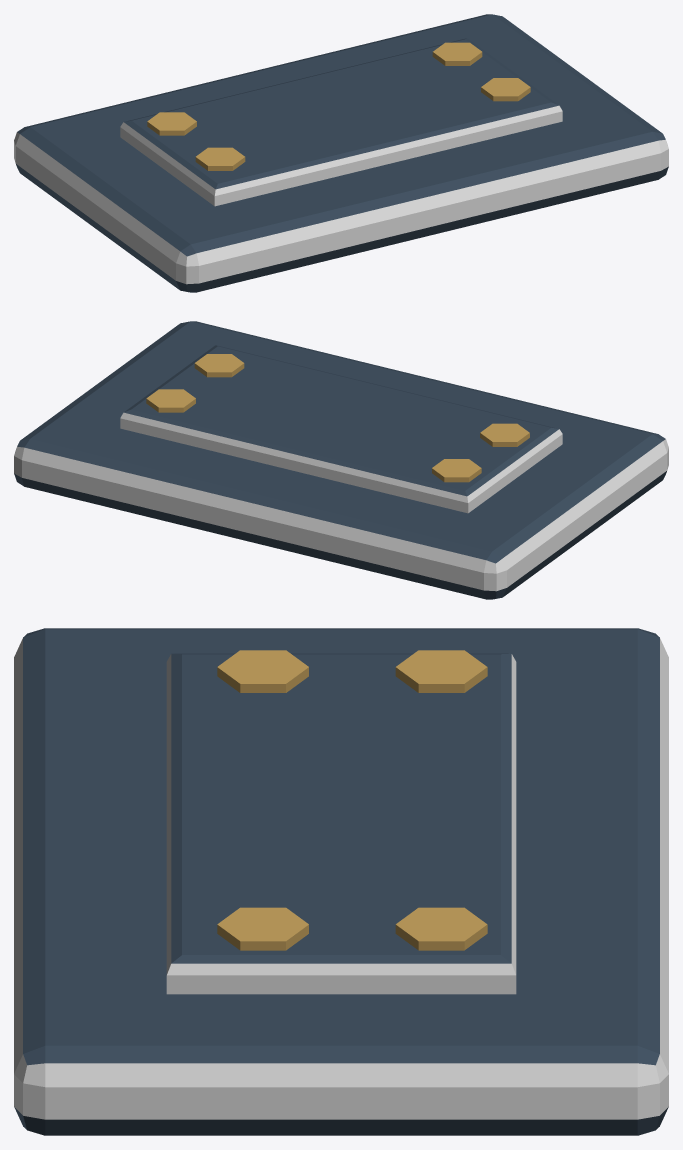
File: tempered_steel_plate.glb
3 renders of one model, top to bottom at view 1: azimuth 30°, elevation 25°; view 2: azimuth 150°, elevation 25°; view 3: azimuth 270°, elevation 25°, orthographic. The views are drawn at different scales.
Parts seen in each view (by area): view 1: Cylinder.003; view 2: Cylinder.003; view 3: Cylinder.003.
Boxes of the visible parts, x1,y1,x2,y2 form: Cylinder.003: (14,14,668,292); Cylinder.003: (14,321,668,599); Cylinder.003: (14,628,668,1135).
Bounding box in the file's own units: 0.432 × 0.0597 × 0.27.
